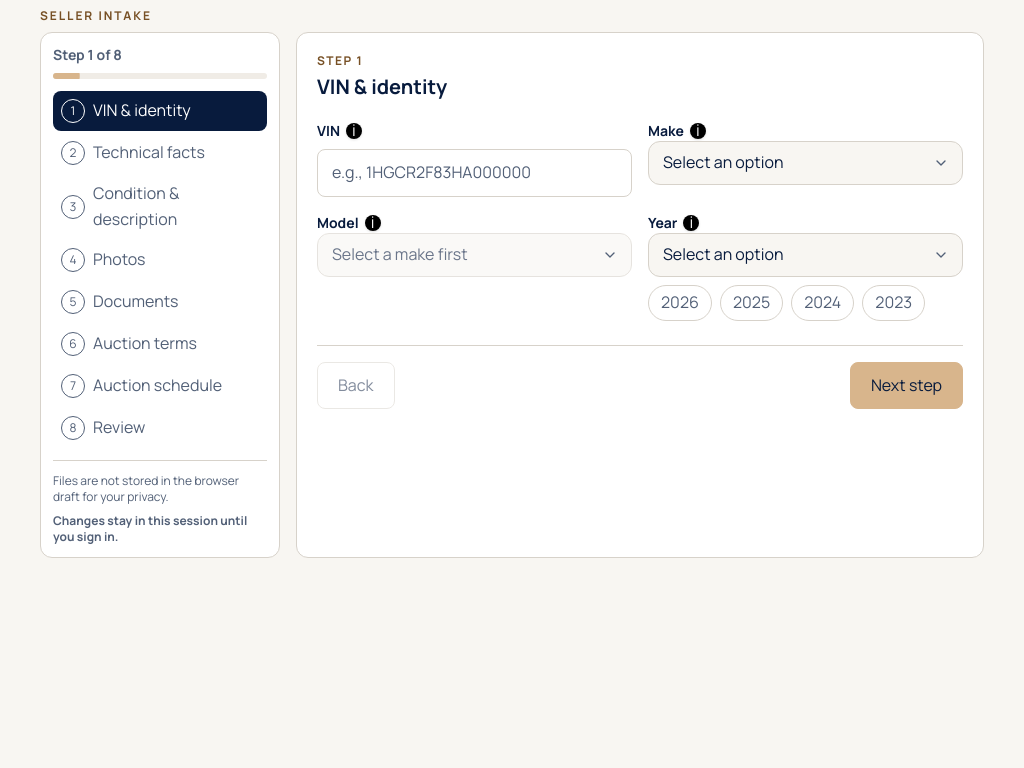
Test case: vehicle seller wizard › displays VIN format validation error when invalid characters are entered
Type "1234567890123456@" into the field labelled "VIN". click: (474, 173)
box: x1=317 y1=149 x2=632 y2=197
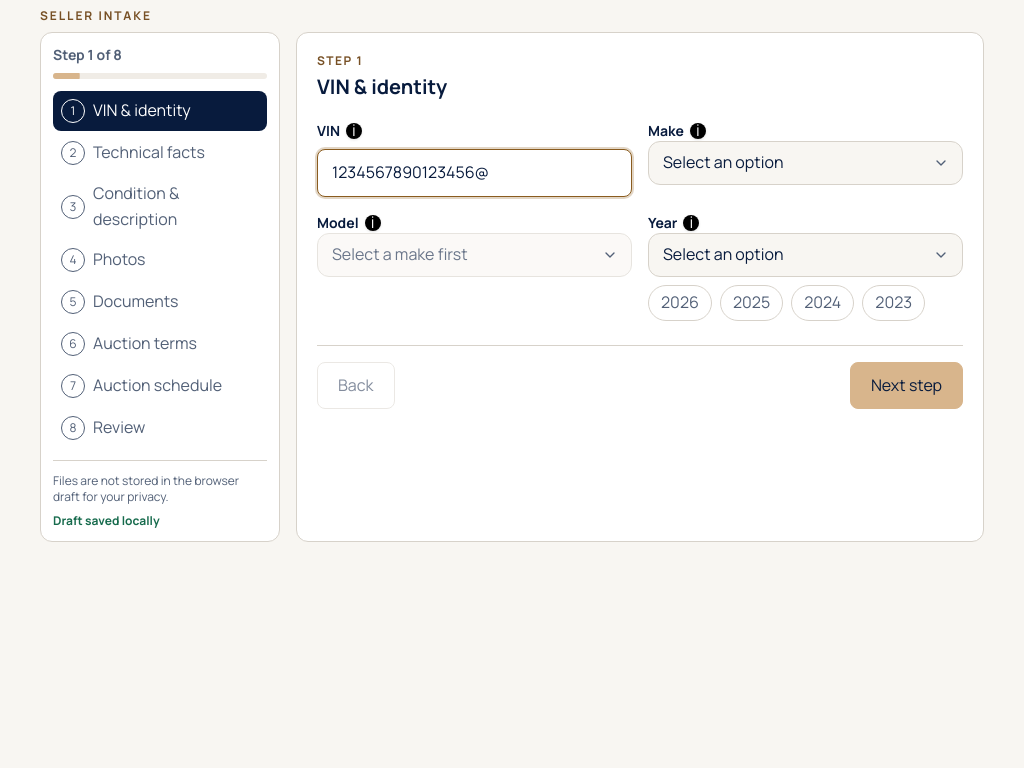
Click the button "Next step". click: (906, 385)
box: x1=850 y1=362 x2=963 y2=409
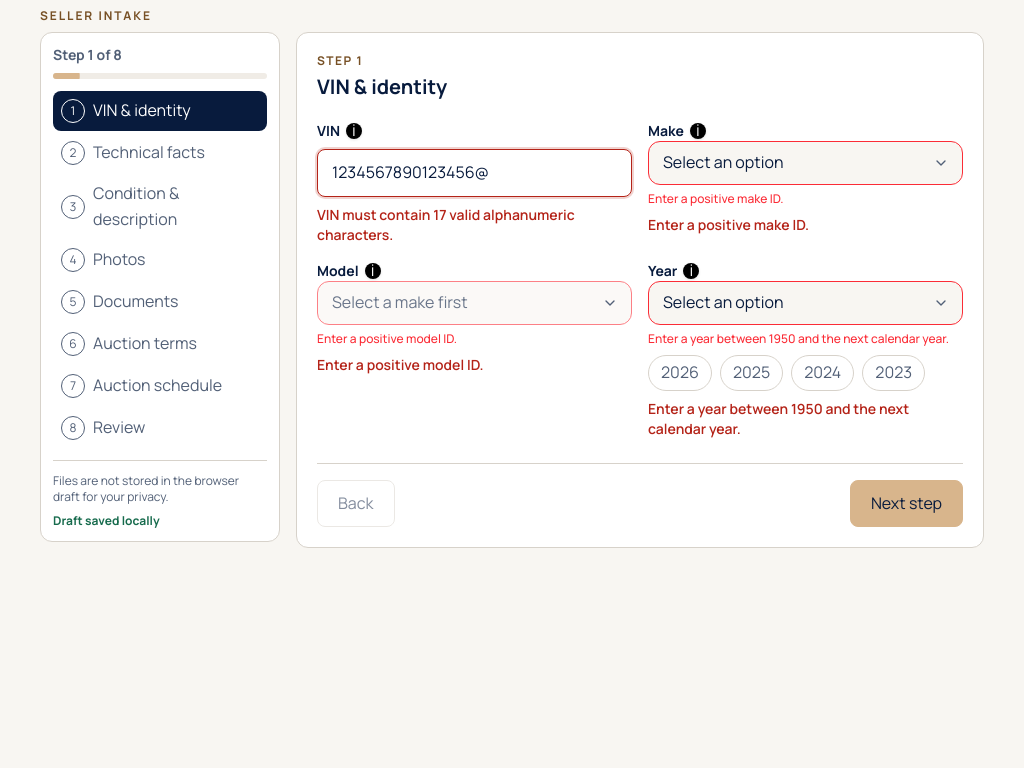
expect the text "VIN must contain 17 valid alphanumeric characters." is shown: met, box x1=317 y1=205 x2=575 y2=244
